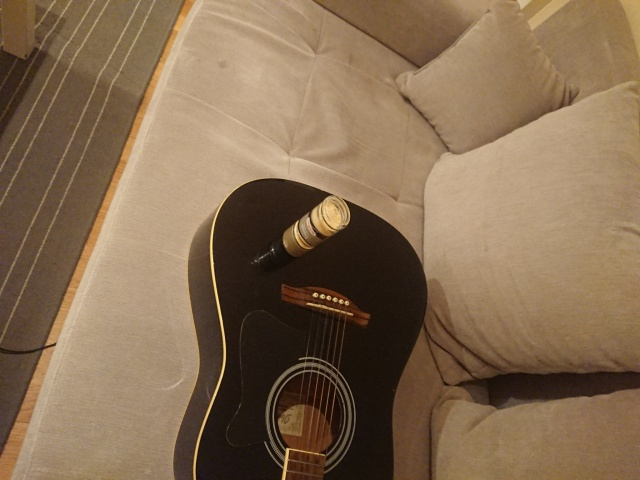Kotanyi Garlic Granules 70g: (279, 193, 352, 260)
